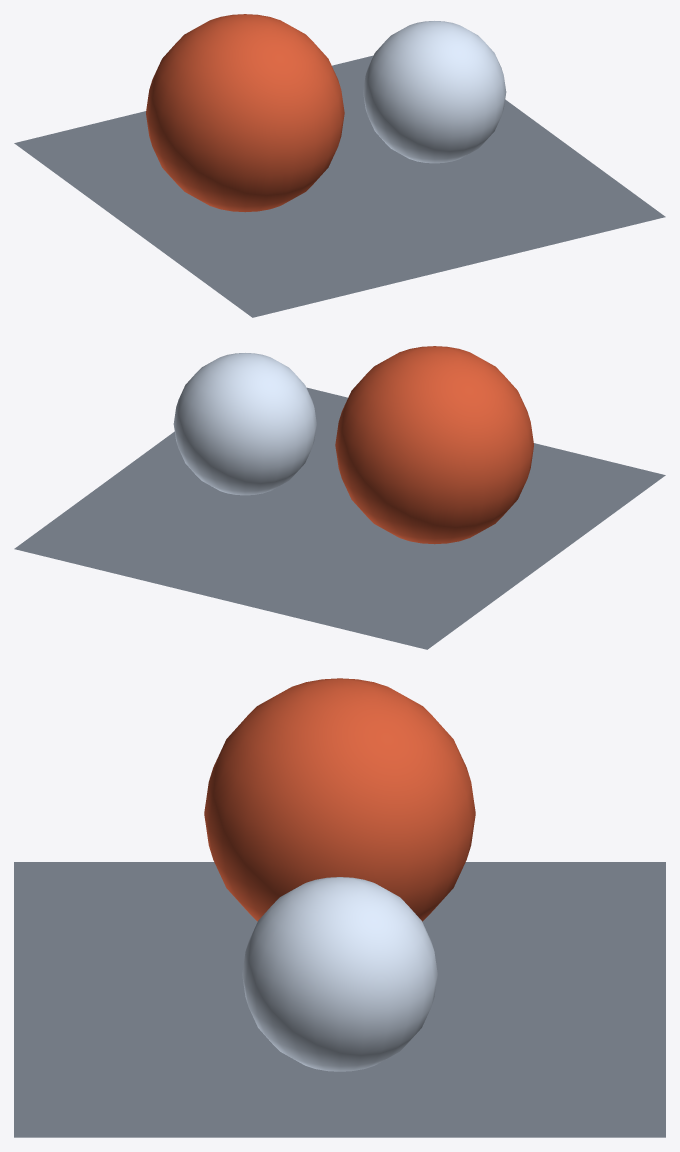
The model's file is sample.glb.
3 renders of one model, top to bottom at view 1: azimuth 30°, elevation 25°; view 2: azimuth 150°, elevation 25°; view 3: azimuth 270°, elevation 25°, orthographic. The views are drawn at different scales.
Size of the model in its own units: 4.8 by 2 by 4.8.
